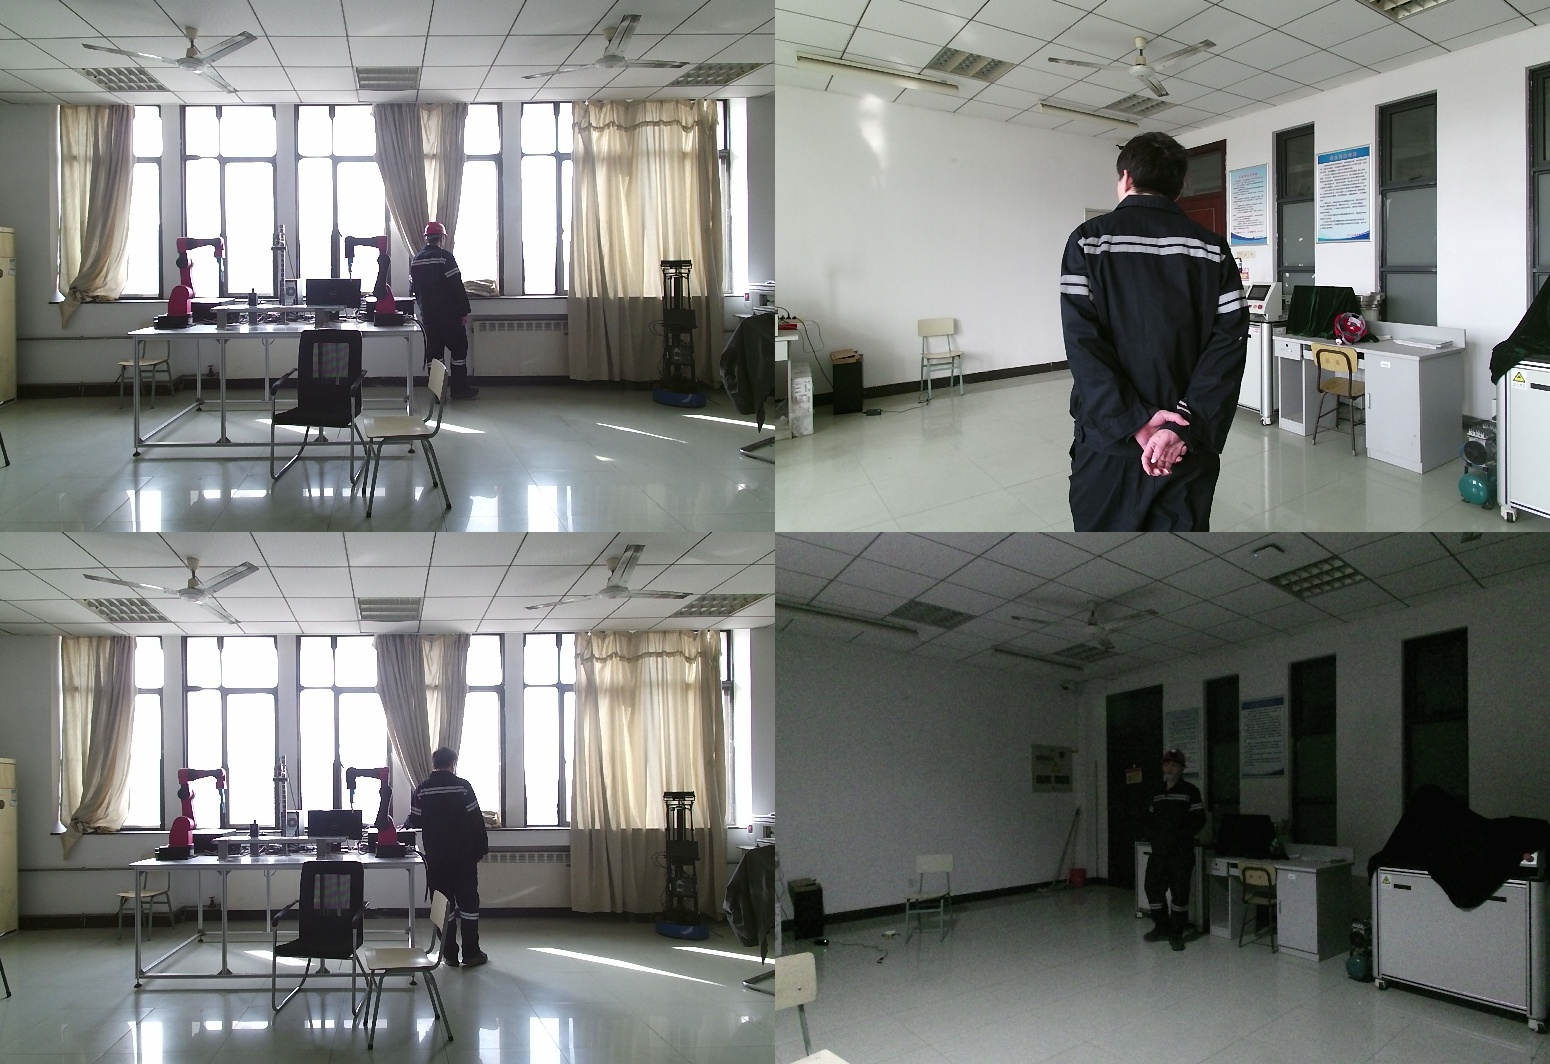person: (1063, 132, 1269, 532), (403, 746, 495, 969), (407, 223, 480, 407), (1144, 747, 1207, 955)
